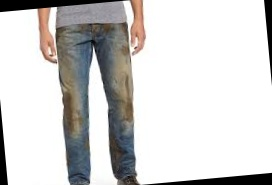earth: (60, 93, 77, 133), (122, 77, 135, 121), (108, 133, 121, 173), (121, 25, 129, 55), (103, 24, 111, 34)
